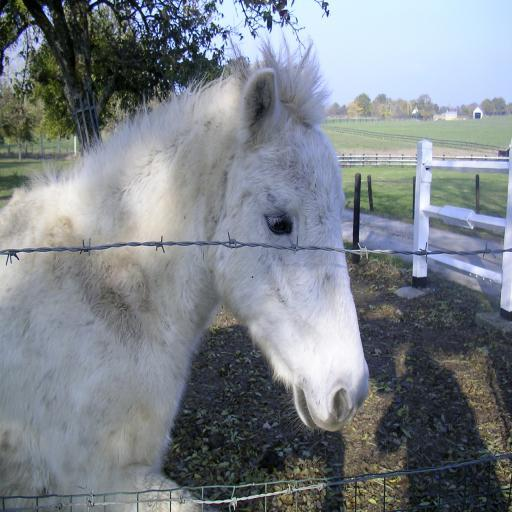Horse: (0, 23, 370, 511)
